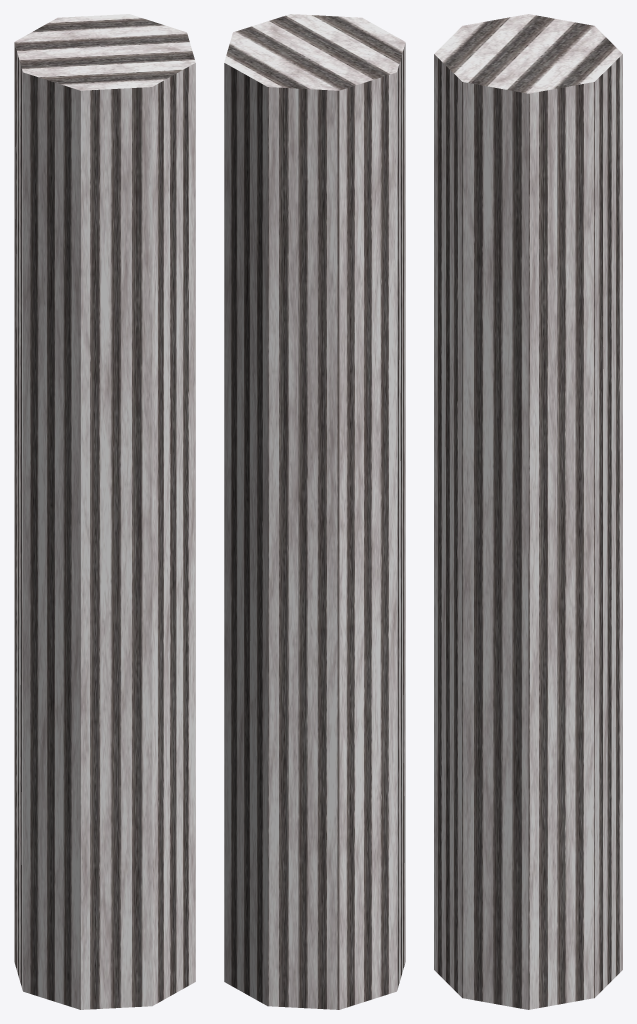
Rendered from pillarbody00.fbx.
3 renders of one model, left to right at view 1: azimuth 30°, elevation 25°; view 2: azimuth 150°, elevation 25°; view 3: azimuth 270°, elevation 25°, orthographic.
Parts seen in each view (by area): view 1: Cube; view 2: Cube; view 3: Cube.
Part boxes in pixels (left/top/right/bottom): Cube: left=14, top=14, right=195, bottom=1009; Cube: left=224, top=14, right=405, bottom=1009; Cube: left=434, top=14, right=622, bottom=1009.
Size of the model in its own units: 56 by 300 by 56.
1 material, 1 textured.
